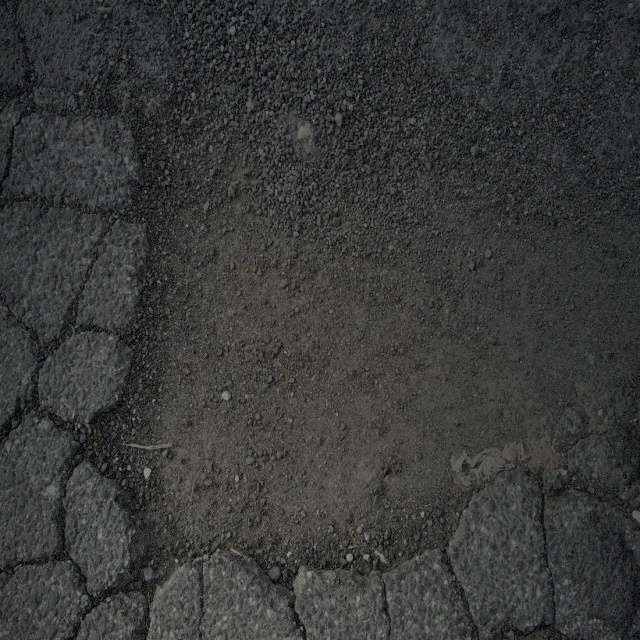pothole: (84, 86, 591, 582)
